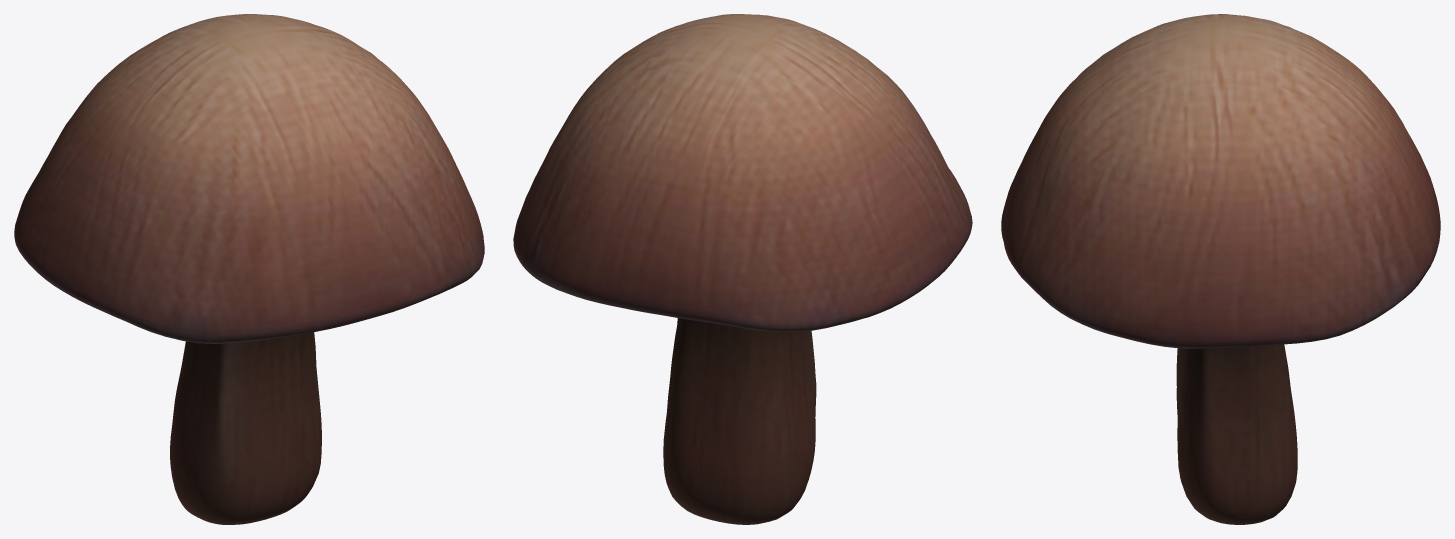
File: c9aeed484975_stylized_mushroom_b.fbx
3 views of the same model, side by side, from view 1: azimuth 30°, elevation 25°; view 2: azimuth 150°, elevation 25°; view 3: azimuth 270°, elevation 25° (orthographic). The views are drawn at different scales.
Visible parts, largest first — view 1: mesh; view 2: mesh; view 3: mesh.
Part boxes in pixels (x1=…): mesh: x1=14, y1=14, x2=484, y2=524; mesh: x1=513, y1=14, x2=972, y2=524; mesh: x1=1001, y1=14, x2=1440, y2=524.
Bounding box in the file's own units: 85.44 × 99.97 × 83.12.
